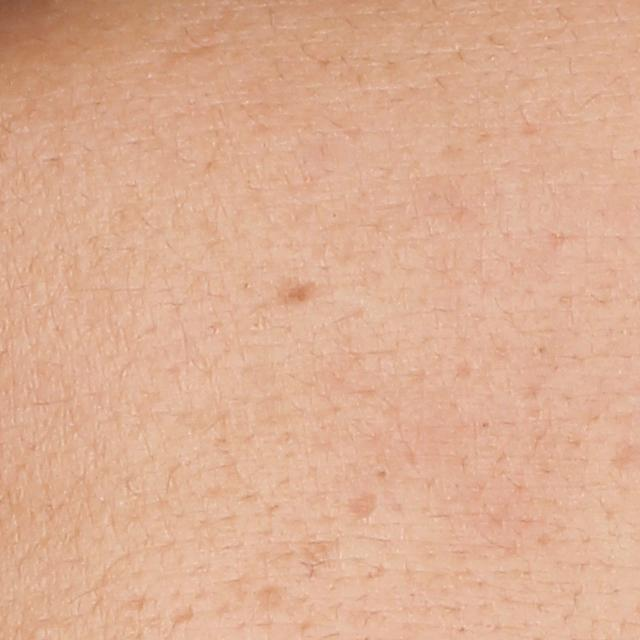atrophic_scar: (340, 489, 379, 532), (252, 581, 291, 621), (168, 601, 193, 624)
comedo: (374, 463, 388, 481)
